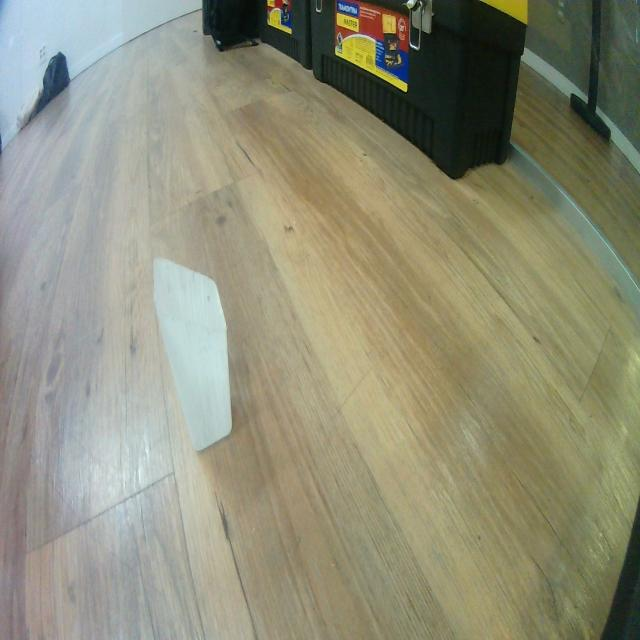erva_daninha: (151, 256, 234, 453)
